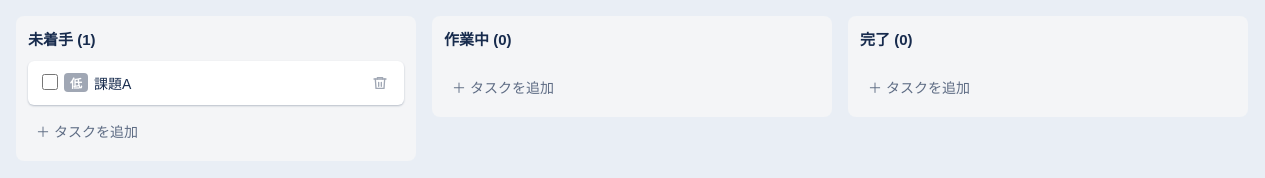
Test: 移動に失敗したら、カードはそのままでメッセージを表示する
Click the checkbox named "課題A の完了" at (50, 82), box [42,74,58,90]
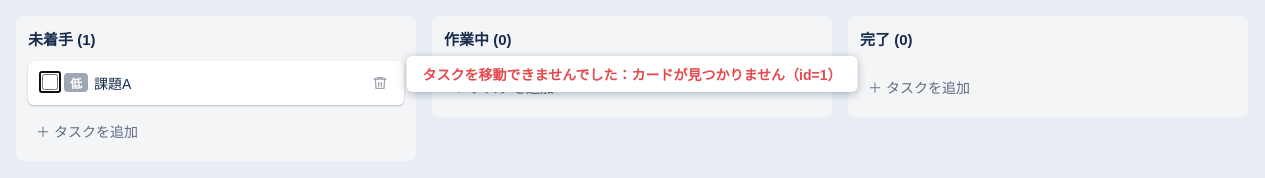
Expected: the message reads "タスクを移動できませんでした：カードが見つかりません（id=1）", [423,67,842,83]
